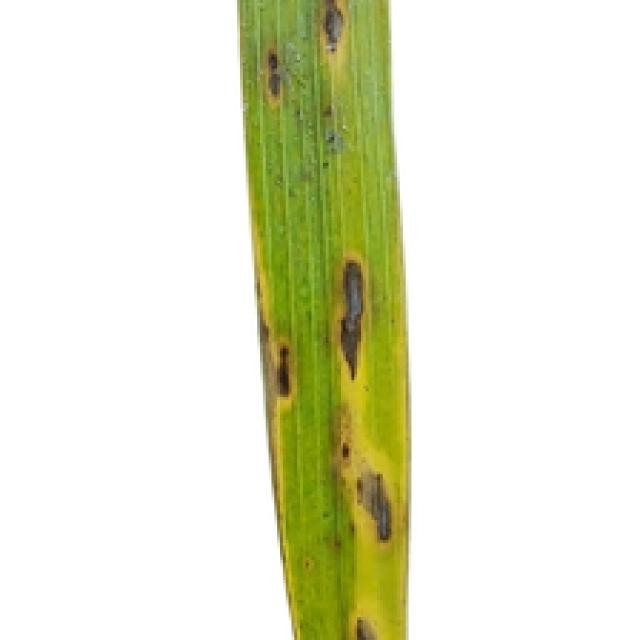Rice___Rice_Blast: (235, 0, 411, 637)
